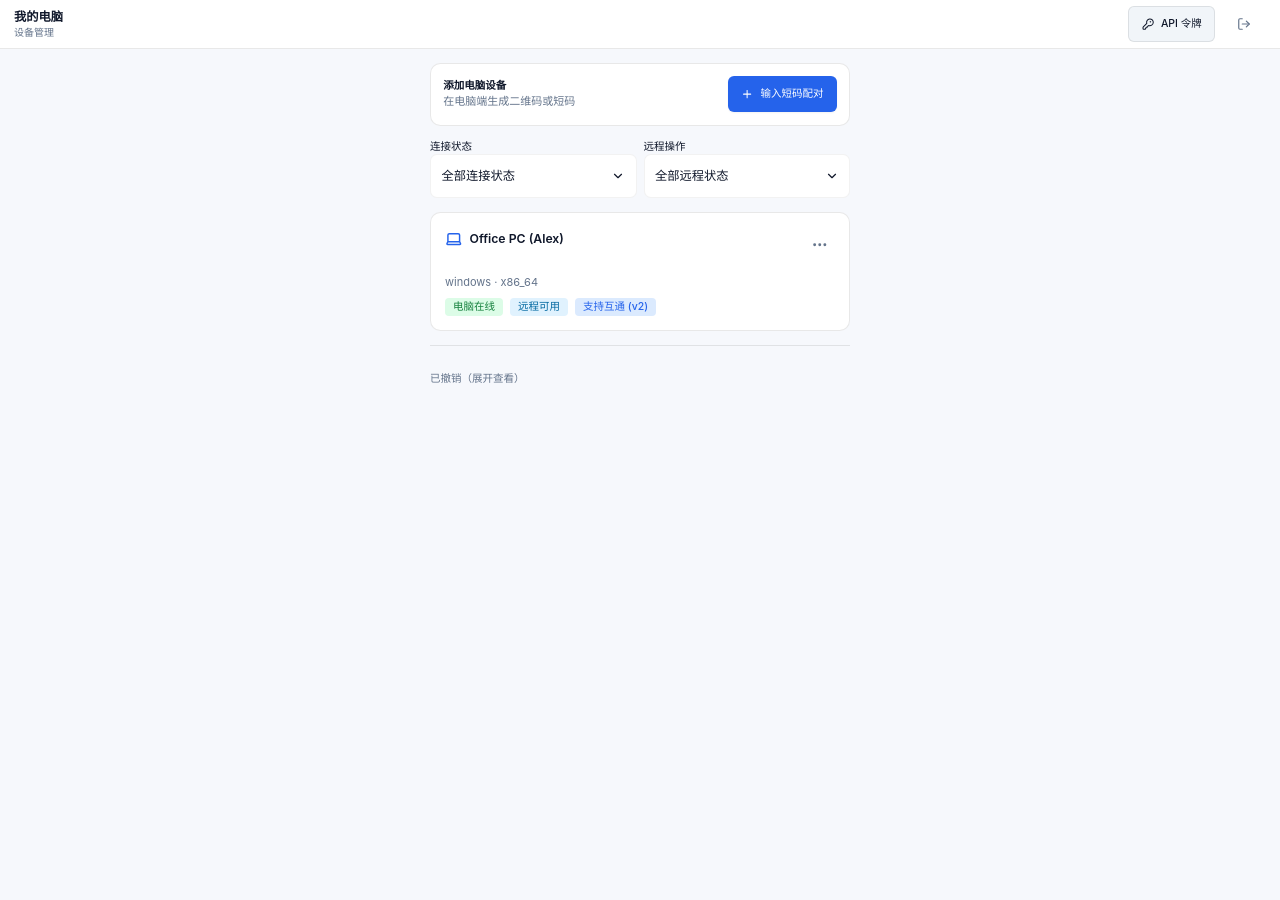
Test case: R1.5 phone repair 2 › loads revoked history on expansion and offers deletion instead of revocation
Expected: the text "Home PC" is not shown
Click the button "已撤销（展开查看）" at x=477, y=379, box [430, 357, 524, 401]
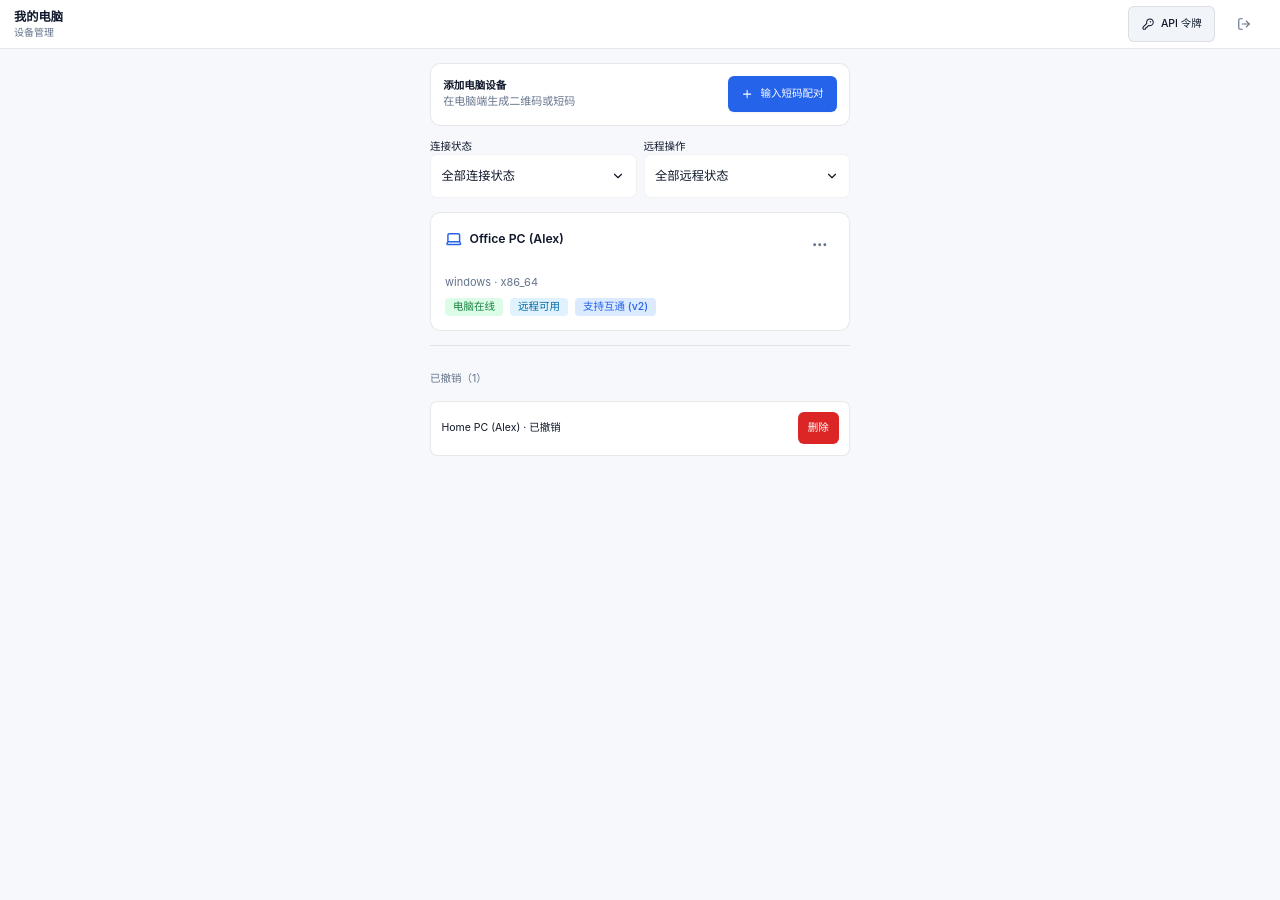
Expected: the number of elements with class "cursor-pointer" is 1, [430, 212, 850, 331]
Now the text "已撤销（1）" is shown, box [430, 357, 487, 401]
Now the text "Home PC" is shown, box [442, 421, 561, 434]
Click the button "删除" at x=818, y=428, box [798, 412, 838, 444]
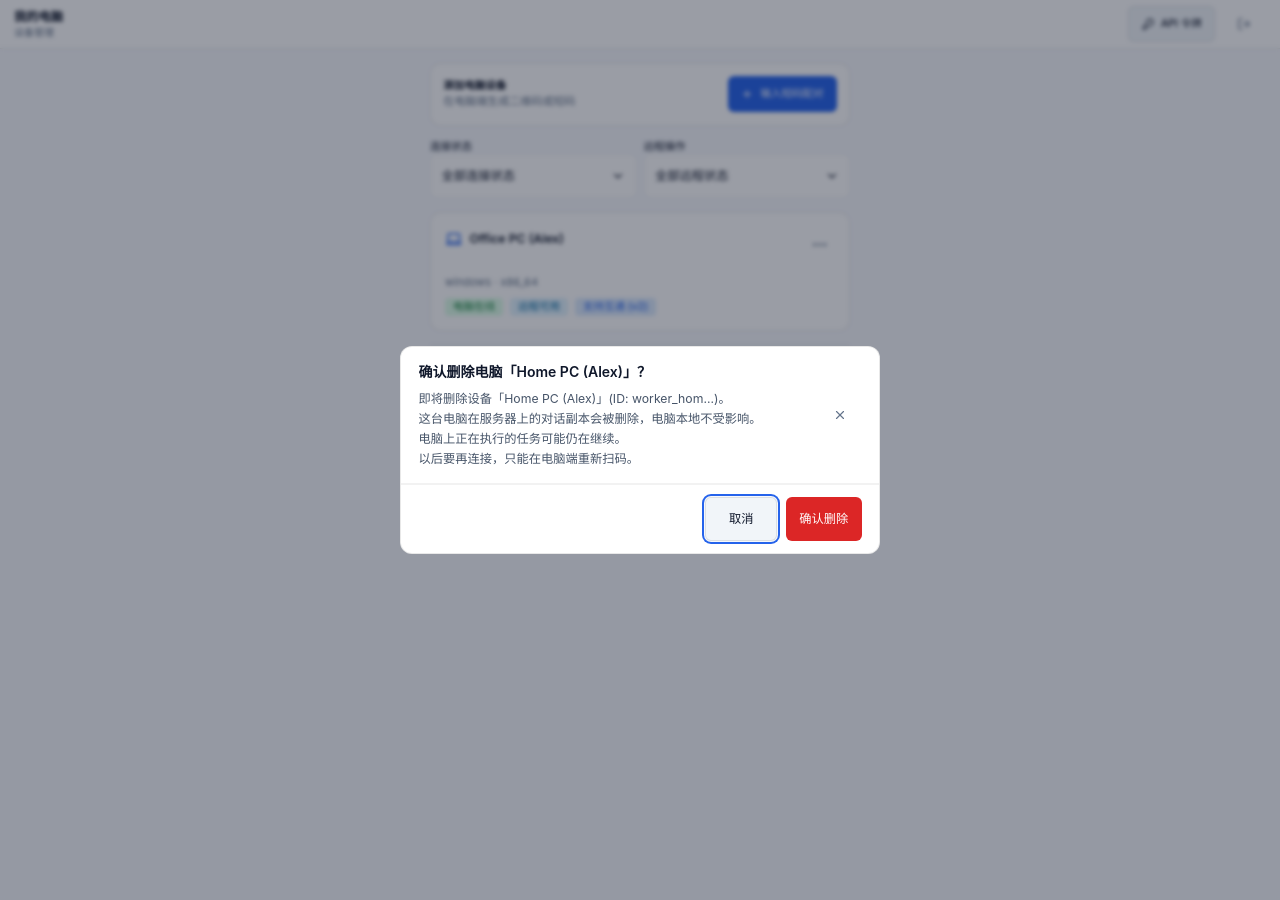
Now the text "服务器上的对话副本会被删除" is shown, box [418, 391, 762, 466]
Now the text "电脑上正在执行的任务可能仍在继续" is shown, box [418, 391, 762, 466]
Now the text "只能在电脑端重新扫码" is shown, box [418, 391, 762, 466]
